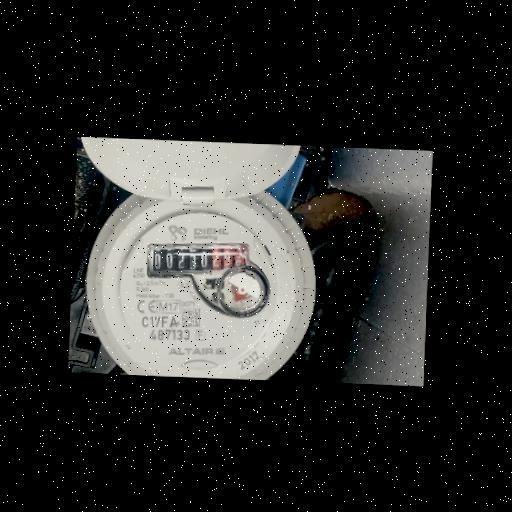0: (164, 248, 175, 271), (199, 248, 210, 271), (153, 249, 164, 271)
2: (176, 249, 187, 272), (210, 248, 221, 271)
3: (188, 248, 199, 271)
5: (233, 249, 244, 268)
9: (222, 248, 233, 270)
border_water_meter_number: (145, 240, 251, 283)
